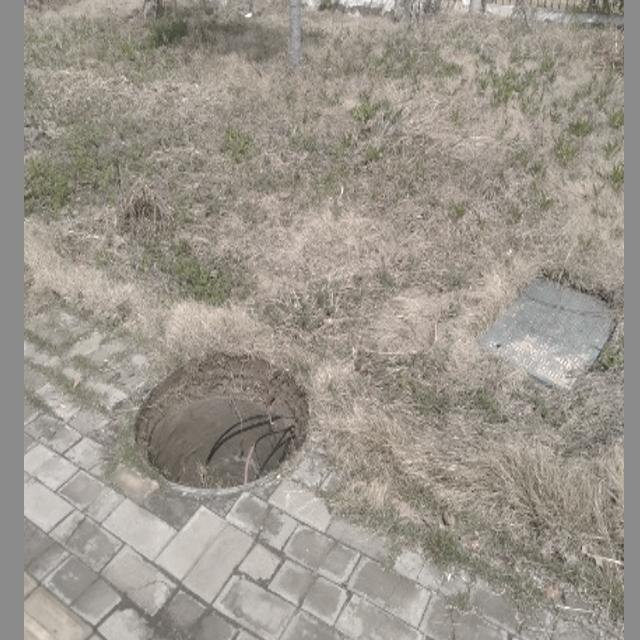lose: (130, 337, 321, 492)
